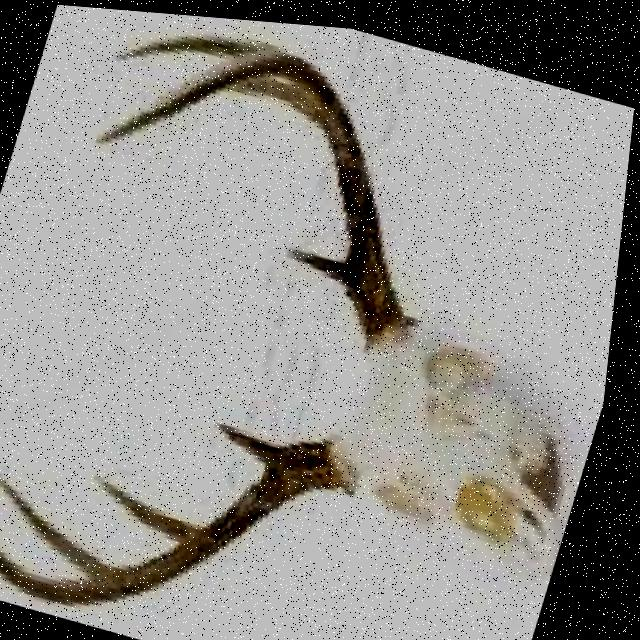L-F: (0, 425, 364, 606)
L-G1: (221, 417, 292, 463)
L-G2: (101, 471, 214, 540)
L-G3: (0, 471, 132, 579)
R-F: (95, 43, 424, 346)
R-G1: (288, 240, 351, 280)
